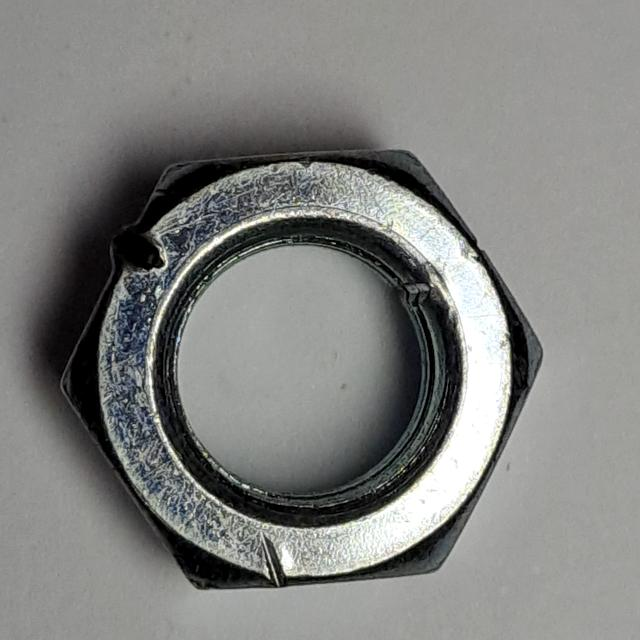Scratches: (42, 136, 555, 601)
